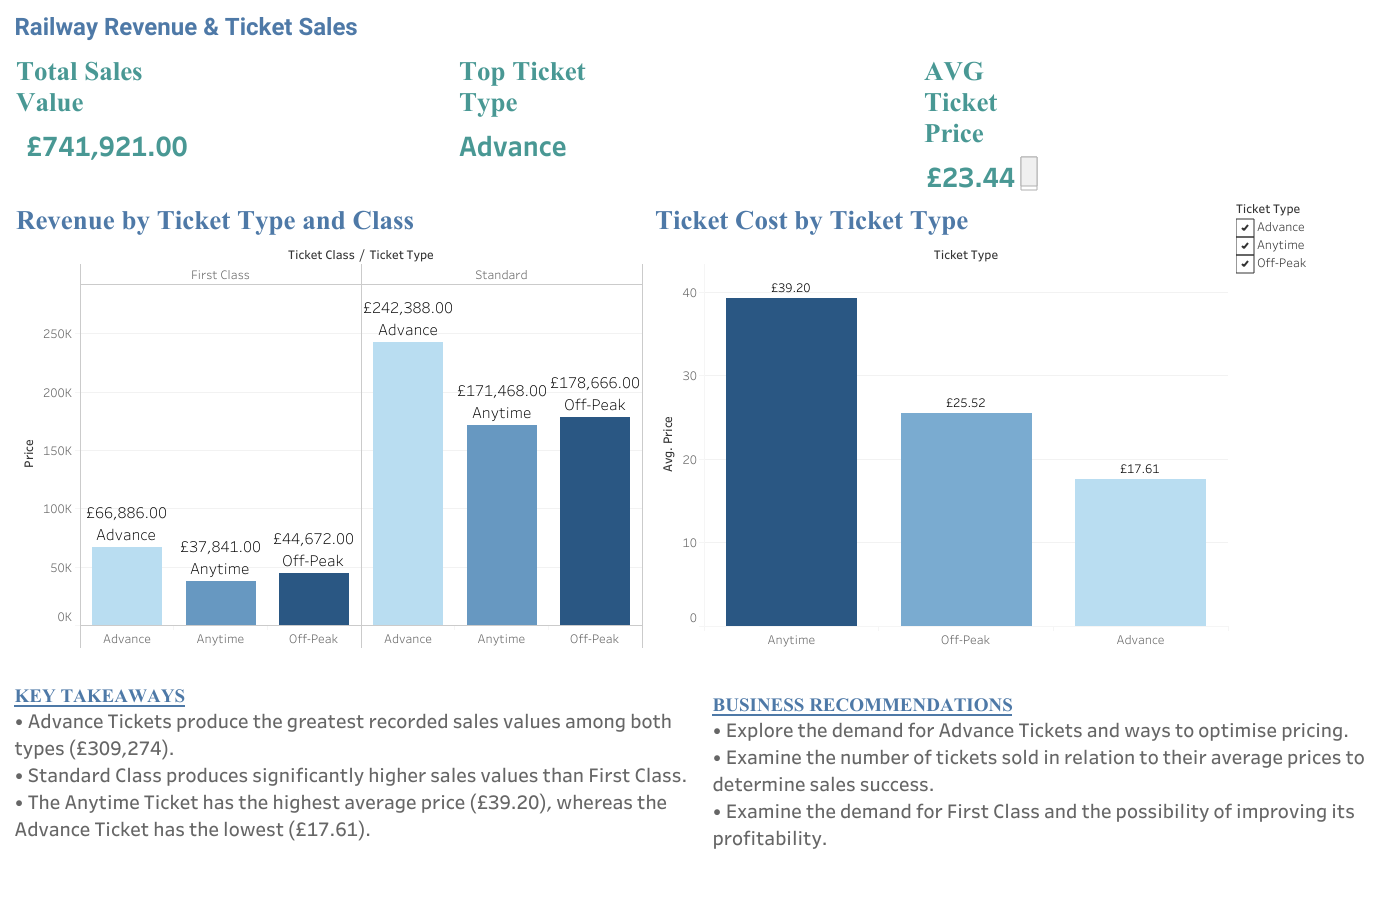

The page's visual inventory and layout, read from the dashboard file:
{"tool":"tableau","page":{"name":"Railway Revenue & Ticket Sales","canvas":[1400,900],"ordinal":1},"visuals":[{"type":"title","box":[8,8,1384,37]},{"type":"worksheet","title":"Sheet 16","mark":"Automatic","box":[8,45,443,149]},{"type":"worksheet","title":"Sheet 17","mark":"Automatic","box":[451,45,465,149]},{"type":"worksheet","title":"Sheet 18","mark":"Automatic","box":[916,45,476,149]},{"type":"worksheet","title":"Revenue by Ticket Type and Class","mark":"Automatic","rows":["Price"],"cols":["Ticket Class","Ticket Type"],"box":[8,194,638.5,458]},{"type":"worksheet","title":"Ticket Cost by Ticket Type","mark":"Automatic","rows":["Price"],"cols":["Ticket Type"],"box":[646.5,194,585.5,458]},{"type":"filter","title":"Ticket Cost by Ticket Type","param":"[federated.1w15r970ju7bjo18y6k5715vxli8].[none:Ticket Type:nk]","box":[1232,194,160,108]},{"type":"text","box":[8,652,698,240]},{"type":"text","box":[706,652,686,240]}]}

Visuals, with their boxes in screenshot pixels (x1, y1, x2, y2), scaled from the page's 1400x900 canvas onto the 1399x899 screenshot:
title: 8/8/1391/45
"Sheet 16" worksheet: 8/45/451/194
"Sheet 17" worksheet: 451/45/915/194
"Sheet 18" worksheet: 915/45/1391/194
"Revenue by Ticket Type and Class" worksheet: 8/194/646/651
"Ticket Cost by Ticket Type" worksheet: 646/194/1231/651
"Ticket Cost by Ticket Type" filter: 1231/194/1391/302
text: 8/651/705/891
text: 705/651/1391/891
